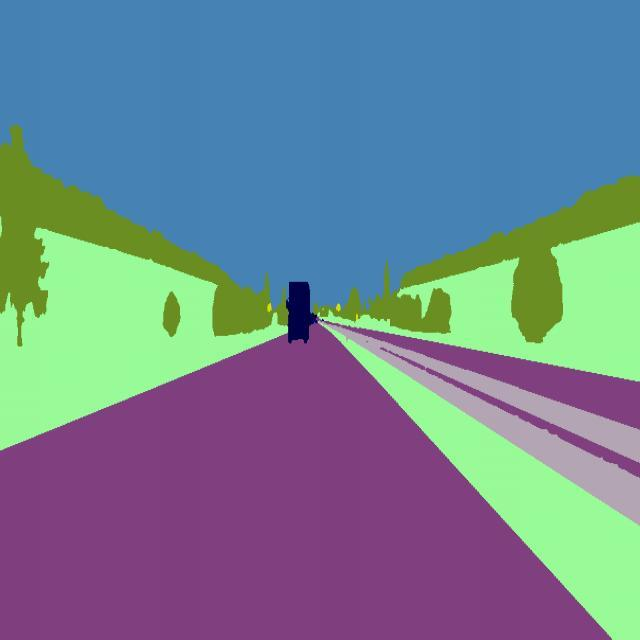safe: (284, 279, 312, 346)
